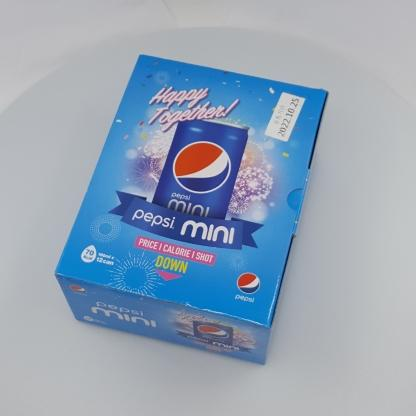-----160ML: (54, 54, 329, 365)
